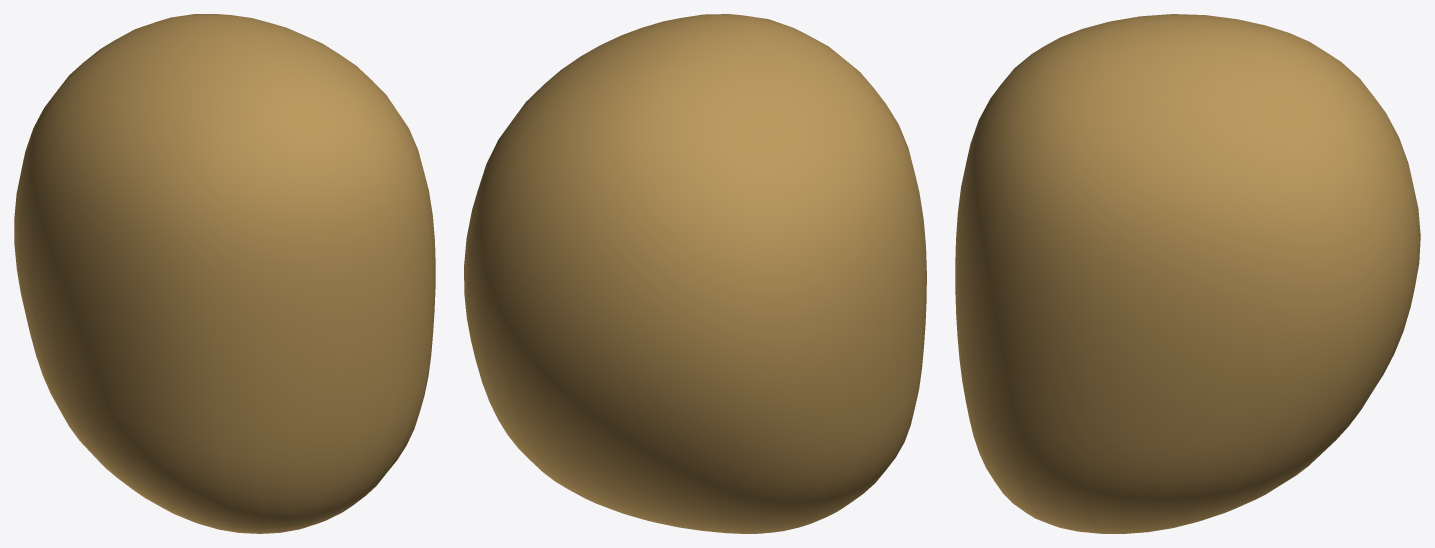
File: head_head_006.gltf
3 views of the same model, side by side, from view 1: azimuth 30°, elevation 25°; view 2: azimuth 150°, elevation 25°; view 3: azimuth 270°, elevation 25° (orthographic). The views are drawn at different scales.
Parts seen in each view (by area): view 1: head.006; view 2: head.006; view 3: head.006.
Part boxes in pixels (x1,y1,x2,y2): head.006: (14,14,435,533); head.006: (464,14,926,533); head.006: (955,14,1420,533).
Size of the model in its own units: 0.1457 by 0.1798 by 0.1585.
